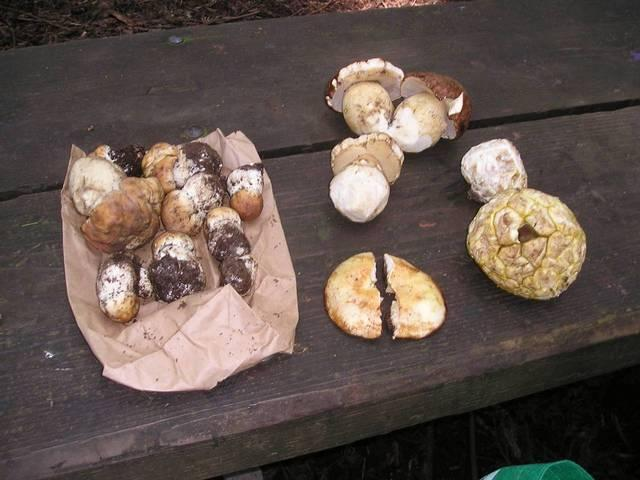edible_mushroom: (68, 139, 264, 323), (324, 51, 466, 214), (465, 186, 587, 300), (325, 247, 449, 340), (461, 137, 531, 198)
